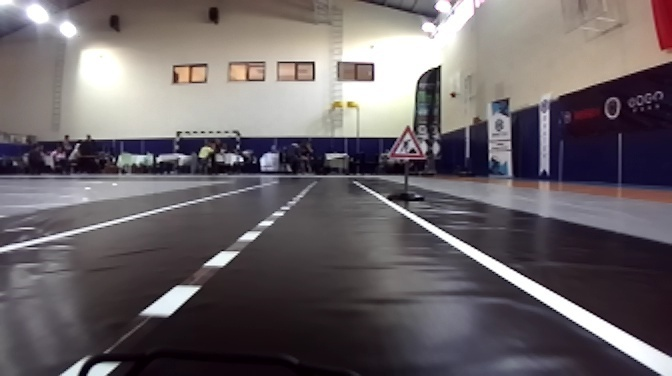yol_yapimi: (386, 123, 430, 161)
